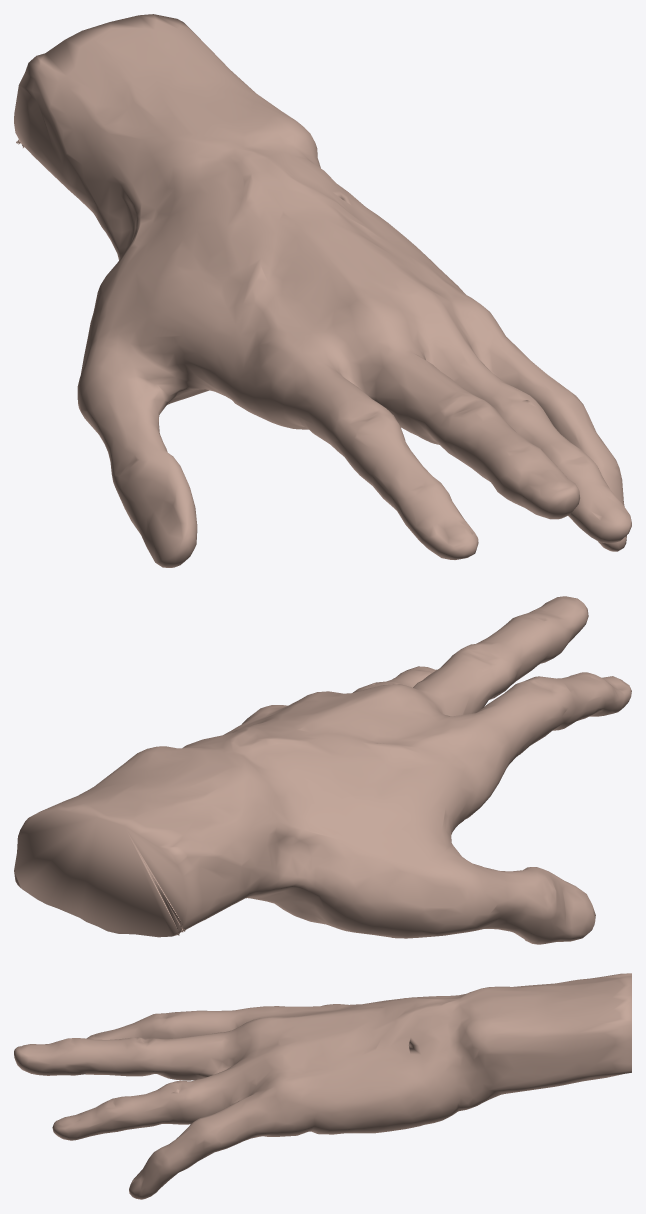
Rendered from handsign.glb.
3 renders of one model, top to bottom at view 1: azimuth 30°, elevation 25°; view 2: azimuth 150°, elevation 25°; view 3: azimuth 270°, elevation 25°, orthographic. The views are drawn at different scales.
Visible parts, largest first — view 1: 11 Hand fingers semi extended; view 2: 11 Hand fingers semi extended; view 3: 11 Hand fingers semi extended.
Part boxes in pixels (box(x1,y1,x2,y2)): 11 Hand fingers semi extended: box(14, 14, 631, 567); 11 Hand fingers semi extended: box(14, 596, 631, 944); 11 Hand fingers semi extended: box(14, 973, 631, 1199).
Size of the model in its own units: 0.0828 by 0.0576 by 0.18.
